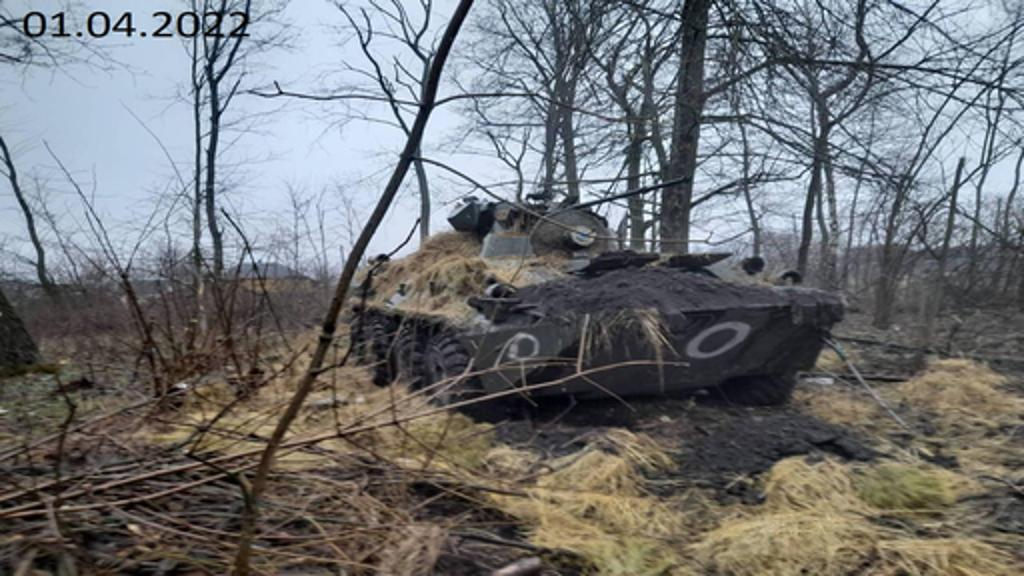APC-IFV: (334, 168, 846, 434)
